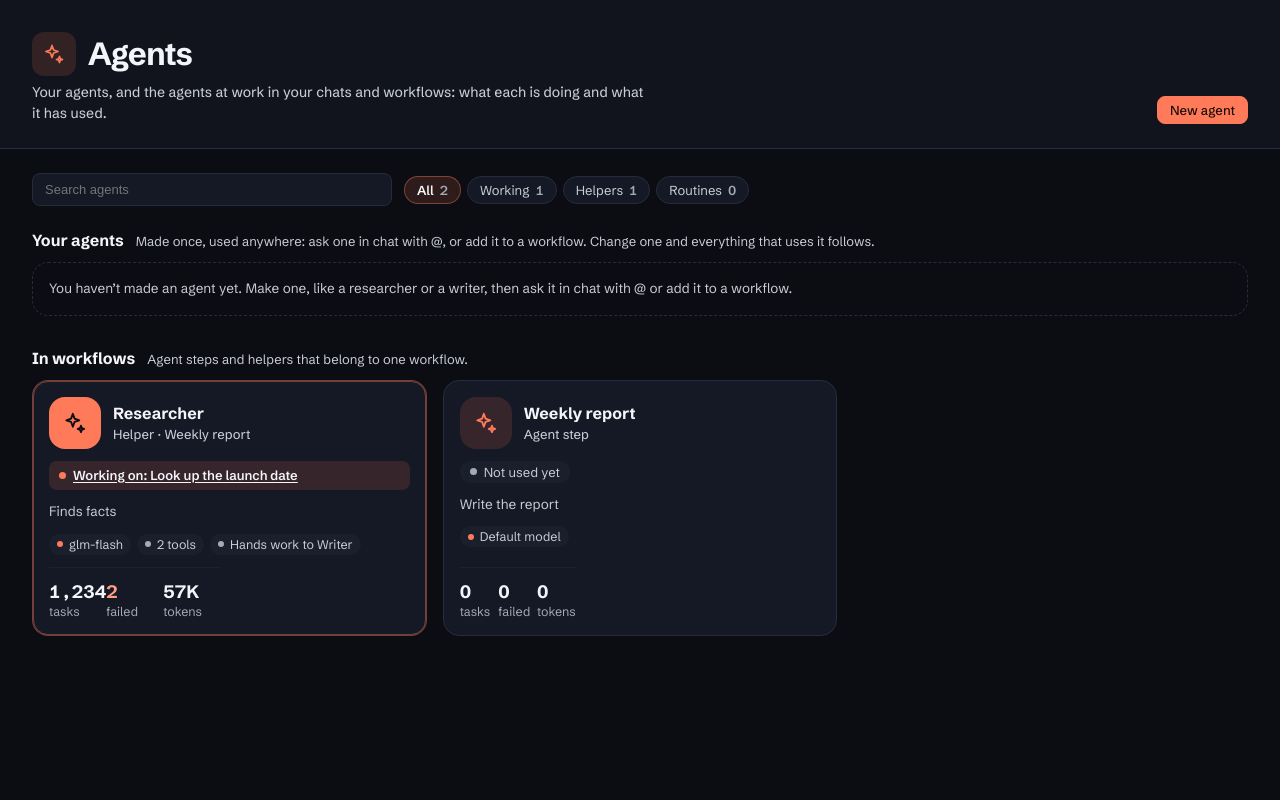
AgentsPage › filters by search and by working or helper
The image size is (1280, 800).
Click the button "Working 1": (512, 190) [467,176,557,204]
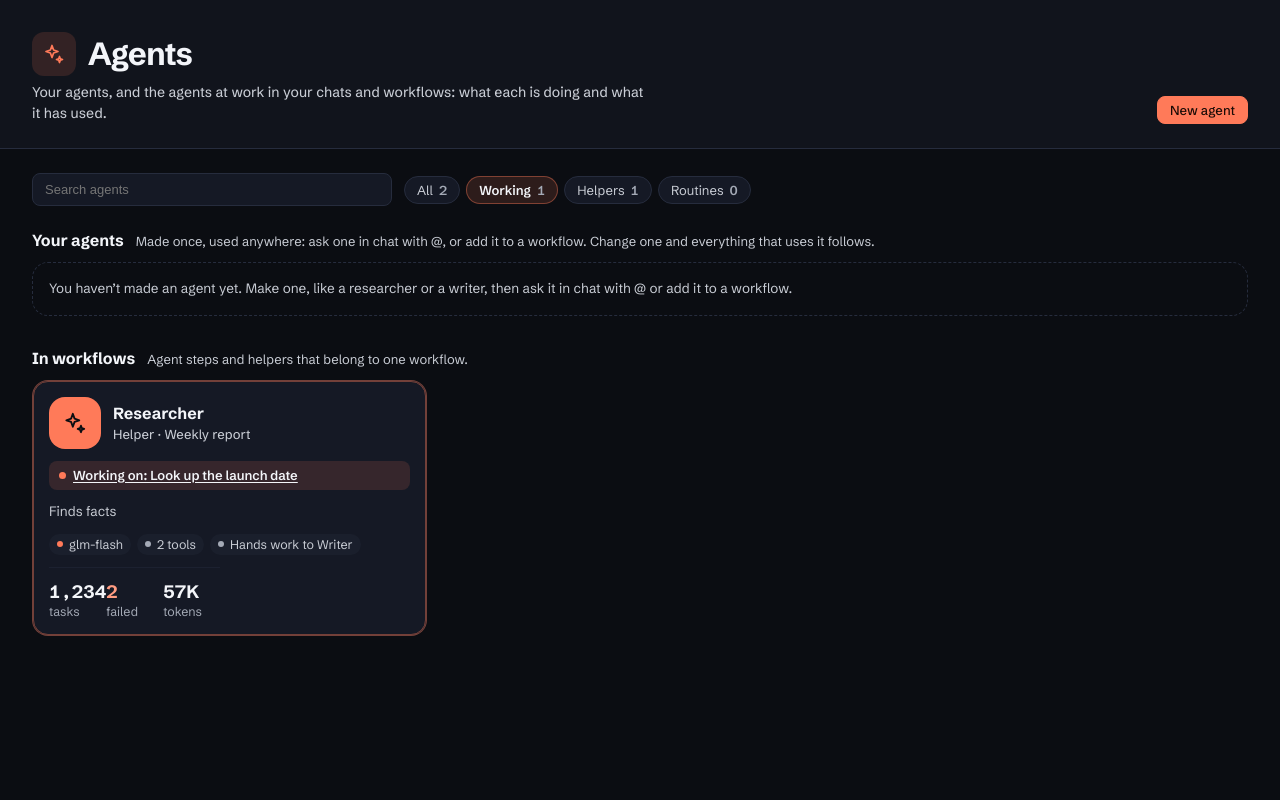
expect the button "Researcher" is shown: met, box [32,380,427,636]
Click the button "All 2": (432, 190) [404,176,460,204]
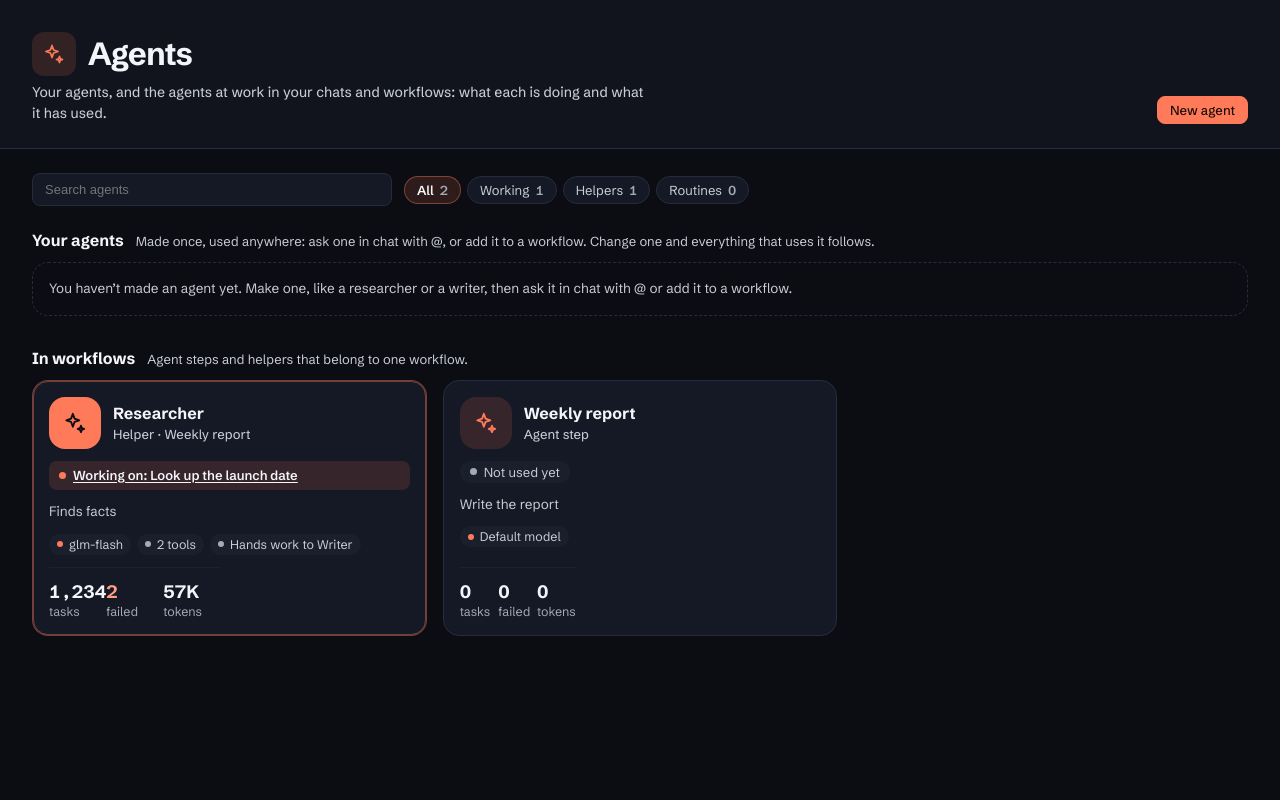
In the search field labelled "Search agents": (212, 190) [32,173,392,206], type "nothing like it"
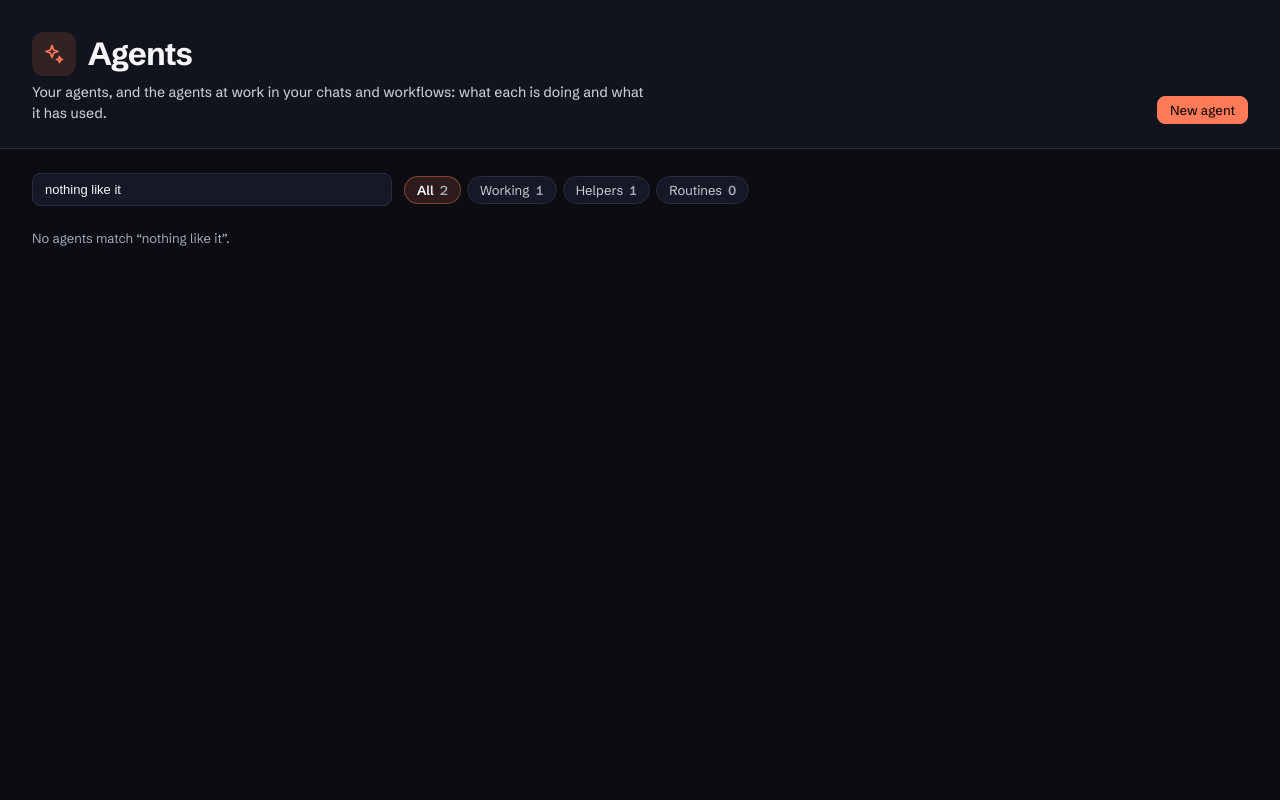
expect the text "No agents match “nothing like it”." is shown: met, box [32,230,230,246]
